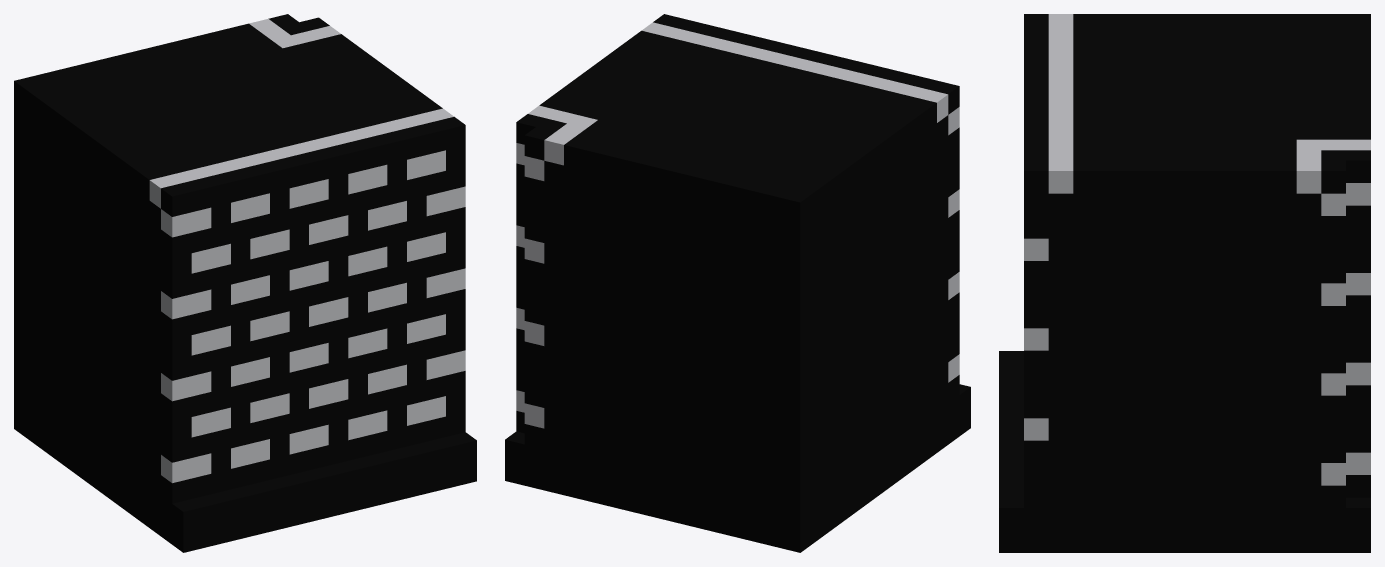
The model's file is dungeon_d_a_outer_wall_segment_c_flipped.obj.
3 renders of one model, left to right at view 1: azimuth 30°, elevation 25°; view 2: azimuth 150°, elevation 25°; view 3: azimuth 270°, elevation 25°, orthographic. The views are drawn at different scales.
Bounding box in the file's own units: 1.5 × 1.7 × 1.5.
Materials: 1 (1 with a texture image).
